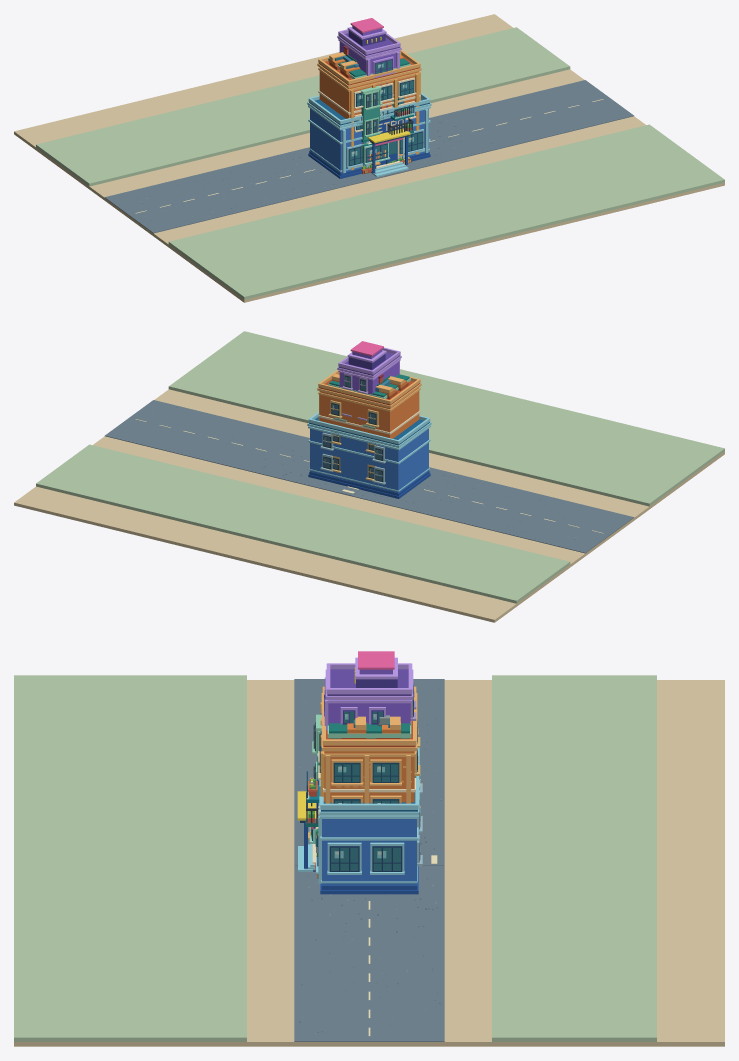
The model's file is modules.glb.
3 renders of one model, top to bottom at view 1: azimuth 30°, elevation 25°; view 2: azimuth 150°, elevation 25°; view 3: azimuth 270°, elevation 25°, orthographic. The views are drawn at different scales.
Visible parts, largest first — view 1: road · Demo · courtyard, road · Demo · sand, road · Demo · asphalt, metro · Street | cobalt light, metro · Street | cobalt, studio · Street | apricot, studio · Street | tangerine, arcade · Street | violet light, metro · Street | cobalt deep, studio · Street | ivory, studio · Street | amber light, arcade · Street | violet (+3 smaller); view 2: road · Demo · courtyard, road · Demo · sand, road · Demo · asphalt, metro · Street | cobalt, studio · Street | tangerine, metro · Street | cobalt light, studio · Street | apricot, arcade · Street | violet light, metro · Street | cobalt deep, arcade · Street | violet, studio · Demo · gold trim, metro · Demo · blue trim; view 3: road · Demo · courtyard, road · Demo · sand, road · Demo · asphalt, studio · Street | apricot, metro · Street | cobalt, metro · Street | cobalt light, arcade · Street | violet light, studio · Street | tangerine, arcade · Street | violet, metro · Street | cobalt deep, metro · Street | marine glass, studio · Street | marine glass (+5 smaller).
Boxes of the visible parts, x1=… form: road · Demo · courtyard: x1=36, y1=27, x2=724, y2=299; road · Demo · sand: x1=14, y1=14, x2=724, y2=302; road · Demo · asphalt: x1=104, y1=80, x2=633, y2=233; metro · Street | cobalt light: x1=307, y1=92, x2=431, y2=176; metro · Street | cobalt: x1=310, y1=108, x2=428, y2=173; studio · Street | apricot: x1=317, y1=50, x2=421, y2=166; studio · Street | tangerine: x1=319, y1=55, x2=419, y2=118; arcade · Street | violet light: x1=337, y1=27, x2=401, y2=95; metro · Street | cobalt deep: x1=308, y1=118, x2=430, y2=178; studio · Street | ivory: x1=318, y1=77, x2=420, y2=133; studio · Street | amber light: x1=350, y1=73, x2=419, y2=170; arcade · Street | violet: x1=339, y1=26, x2=396, y2=74; road · Demo · courtyard: x1=36, y1=331, x2=724, y2=603; road · Demo · sand: x1=14, y1=389, x2=724, y2=622; road · Demo · asphalt: x1=105, y1=400, x2=634, y2=553; metro · Street | cobalt: x1=310, y1=428, x2=428, y2=493; studio · Street | tangerine: x1=319, y1=379, x2=419, y2=438; metro · Street | cobalt light: x1=307, y1=412, x2=431, y2=491; studio · Street | apricot: x1=317, y1=370, x2=421, y2=420; arcade · Street | violet light: x1=337, y1=347, x2=401, y2=380; metro · Street | cobalt deep: x1=308, y1=471, x2=430, y2=498; arcade · Street | violet: x1=339, y1=349, x2=399, y2=394; studio · Demo · gold trim: x1=328, y1=400, x2=379, y2=481; metro · Demo · blue trim: x1=320, y1=432, x2=385, y2=484; road · Demo · courtyard: x1=14, y1=675, x2=656, y2=1041; road · Demo · sand: x1=14, y1=680, x2=724, y2=1046; road · Demo · asphalt: x1=294, y1=679, x2=444, y2=1041; studio · Street | apricot: x1=321, y1=686, x2=417, y2=803; metro · Street | cobalt: x1=322, y1=819, x2=416, y2=885; metro · Street | cobalt light: x1=298, y1=747, x2=419, y2=883; arcade · Street | violet light: x1=322, y1=657, x2=413, y2=730; studio · Street | tangerine: x1=324, y1=722, x2=414, y2=802; arcade · Street | violet: x1=328, y1=669, x2=410, y2=725; metro · Street | cobalt deep: x1=304, y1=780, x2=418, y2=894; metro · Street | marine glass: x1=316, y1=835, x2=400, y2=870; studio · Street | marine glass: x1=335, y1=719, x2=398, y2=803.
Bounding box in the file's own units: 40 × 10.62 × 33.19.
